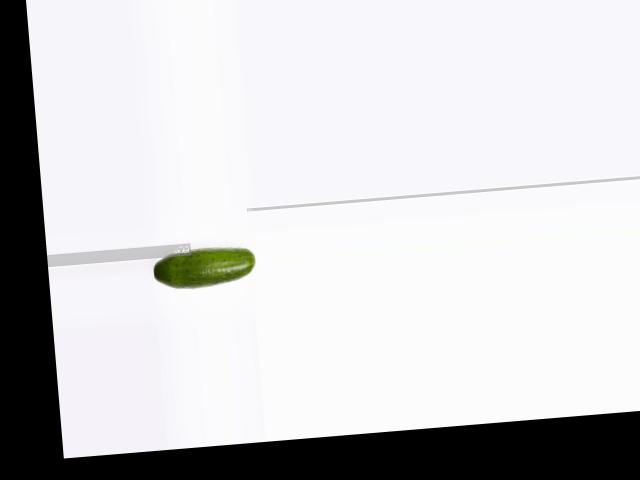cucumber: (150, 243, 257, 292)
